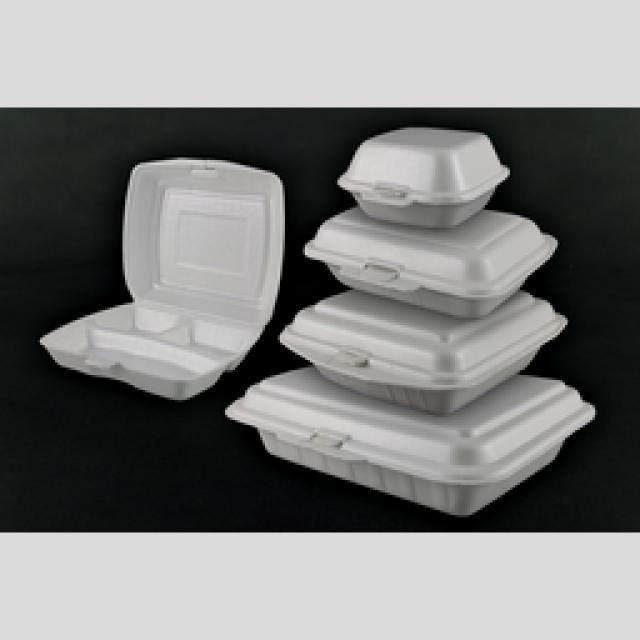inorganic: (226, 366, 596, 516), (282, 288, 566, 414), (310, 207, 558, 313), (336, 127, 509, 228)
